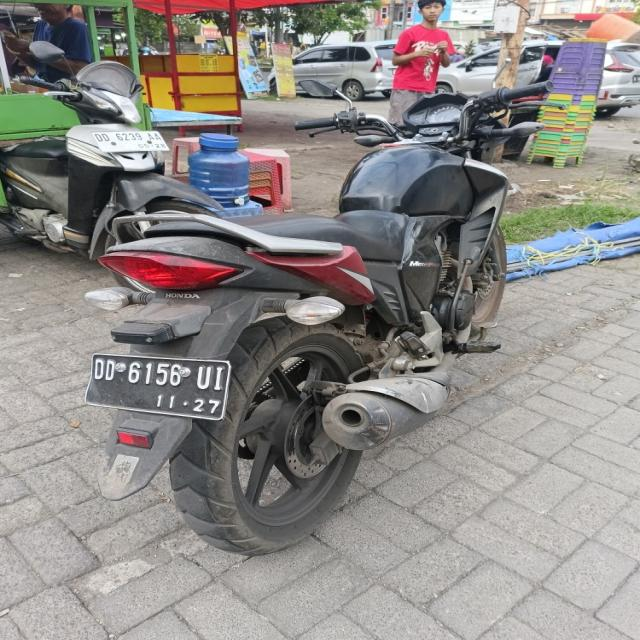plates: (83, 355, 233, 421)
